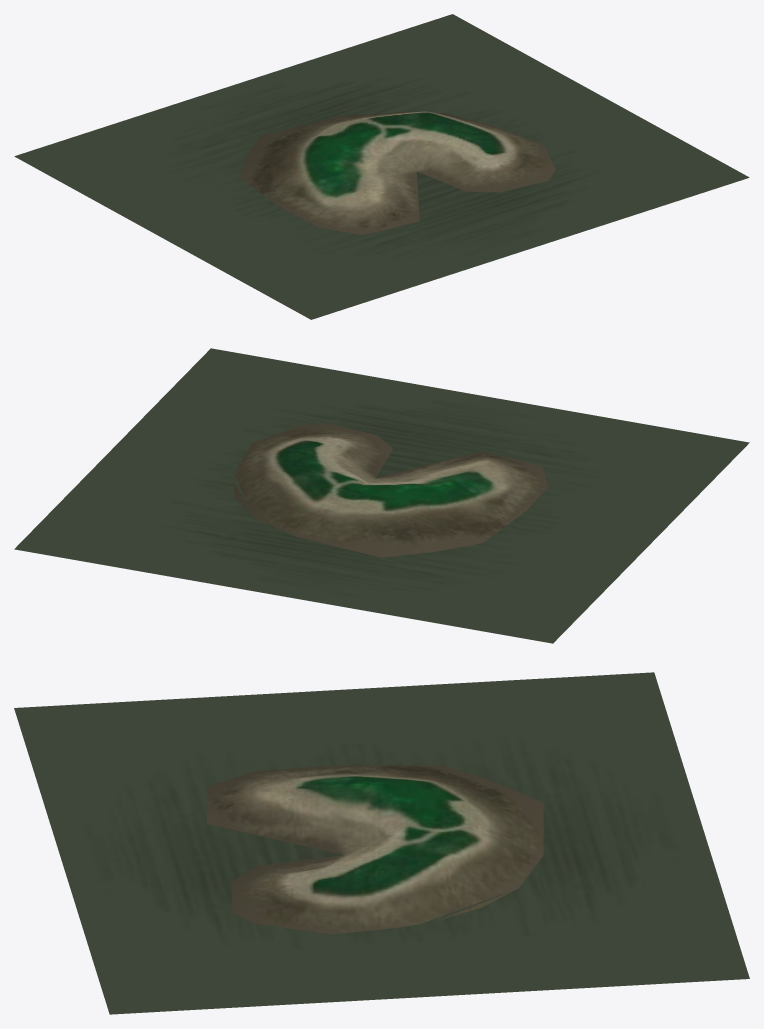
Rendered from pir_m_are_isl_rumRunner_worldmap.fbx.
The picture shows the model from 3 angles, top to bottom: view 1: azimuth 30°, elevation 25°; view 2: azimuth 150°, elevation 25°; view 3: azimuth 270°, elevation 25°; orthographic projection. The views are drawn at different scales.
Visible parts, largest first — view 1: sketchmark, top_mesh; view 2: sketchmark, top_mesh; view 3: sketchmark, top_mesh.
Boxes of the visible parts, x1=… form: sketchmark: x1=14, y1=14, x2=749, y2=319; top_mesh: x1=240, y1=111, x2=555, y2=235; sketchmark: x1=14, y1=348, x2=749, y2=643; top_mesh: x1=234, y1=422, x2=547, y2=557; sketchmark: x1=14, y1=672, x2=749, y2=1014; top_mesh: x1=207, y1=765, x2=543, y2=934.
Size of the model in its own units: 19.99 by 0.7859 by 18.17.
Materials: 2 (2 with a texture image).
